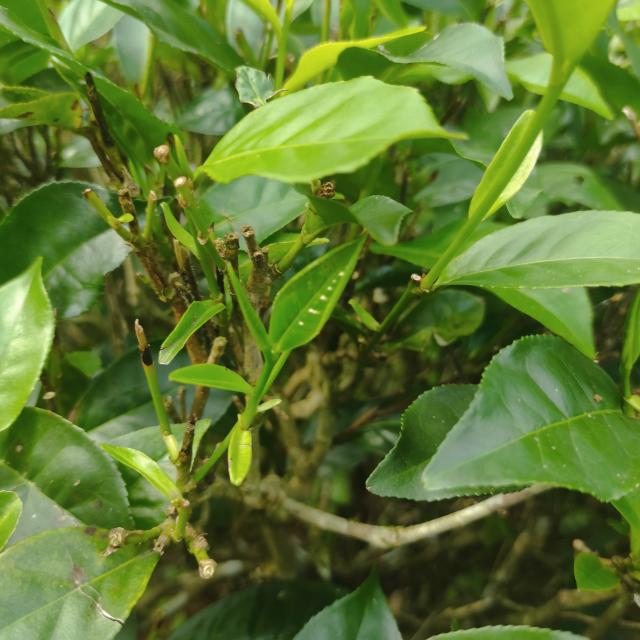unopened_leaf: (215, 250, 285, 371)
